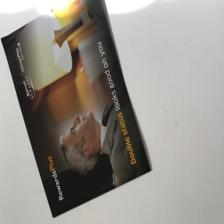paper: (4, 4, 156, 218)
